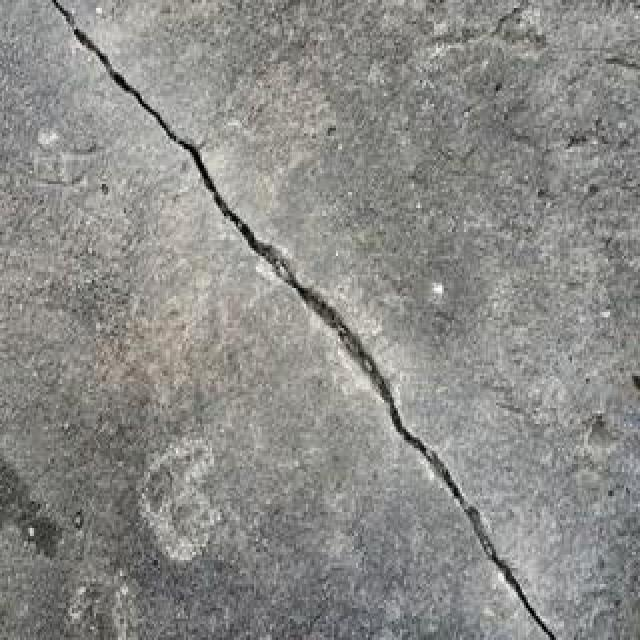diagonal crack: (48, 0, 556, 637)
